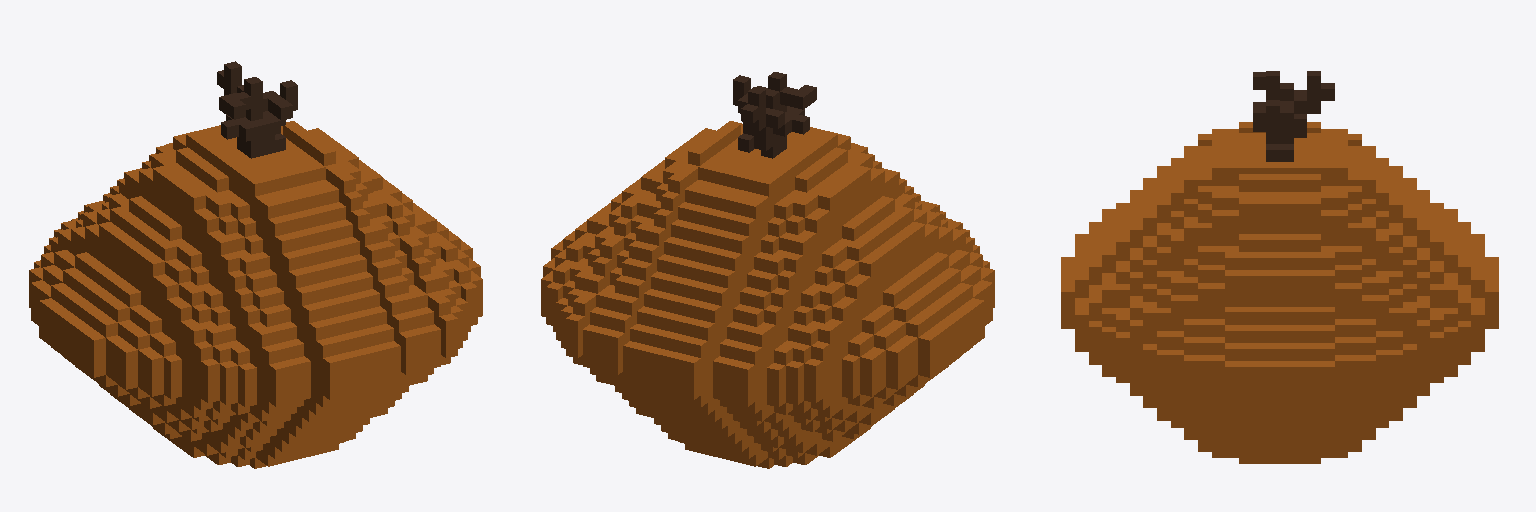
3 views of the same model, side by side, from view 1: azimuth 30°, elevation 25°; view 2: azimuth 150°, elevation 25°; view 3: azimuth 270°, elevation 25° (orthographic).
Parts seen in each view (by area): view 1: object 1; view 2: object 1; view 3: object 1.
Boxes of the visible parts, <box> form: object 1: <box>29,61,482,468</box>; object 1: <box>541,72,994,468</box>; object 1: <box>1061,71,1498,463</box>.
Bounding box in the file's own units: 3.2 × 2.9 × 3.2.
Materials: 1 (1 with a texture image).